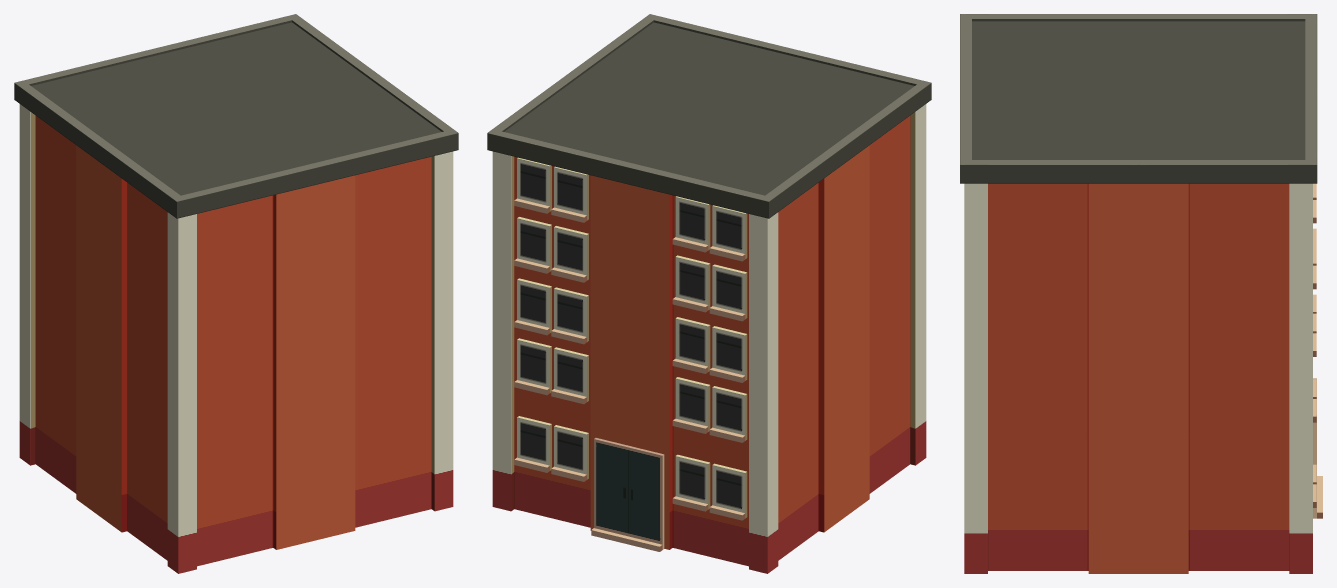
The model's file is apartment_large_mesh.fbx.
The picture shows the model from 3 angles, left to right: view 1: azimuth 30°, elevation 25°; view 2: azimuth 150°, elevation 25°; view 3: azimuth 270°, elevation 25°; orthographic projection. The views are drawn at different scales.
Parts seen in each view (by area): view 1: apartment_large_mesh; view 2: apartment_large_mesh; view 3: apartment_large_mesh.
Part boxes in pixels (<box>): apartment_large_mesh: <box>14,14,458,573</box>; apartment_large_mesh: <box>487,14,931,573</box>; apartment_large_mesh: <box>960,14,1322,573</box>.
Bounding box in the file's own units: 11.63 × 14.76 × 11.82.
